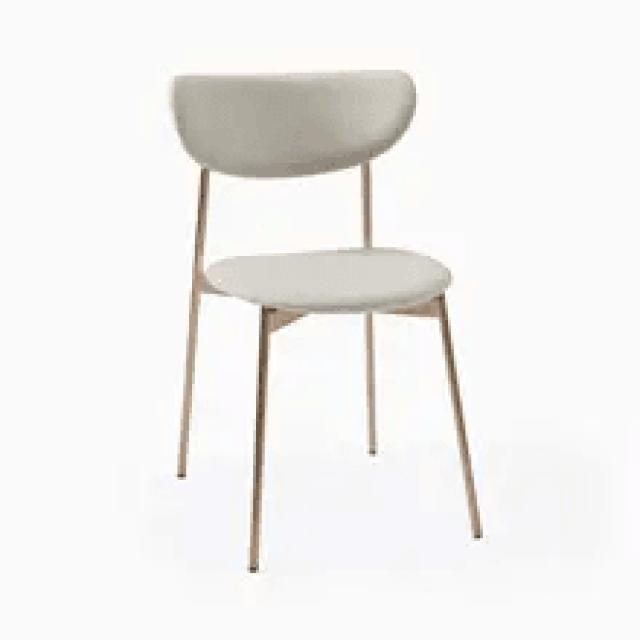chair: (163, 66, 490, 576), (171, 67, 453, 309)
